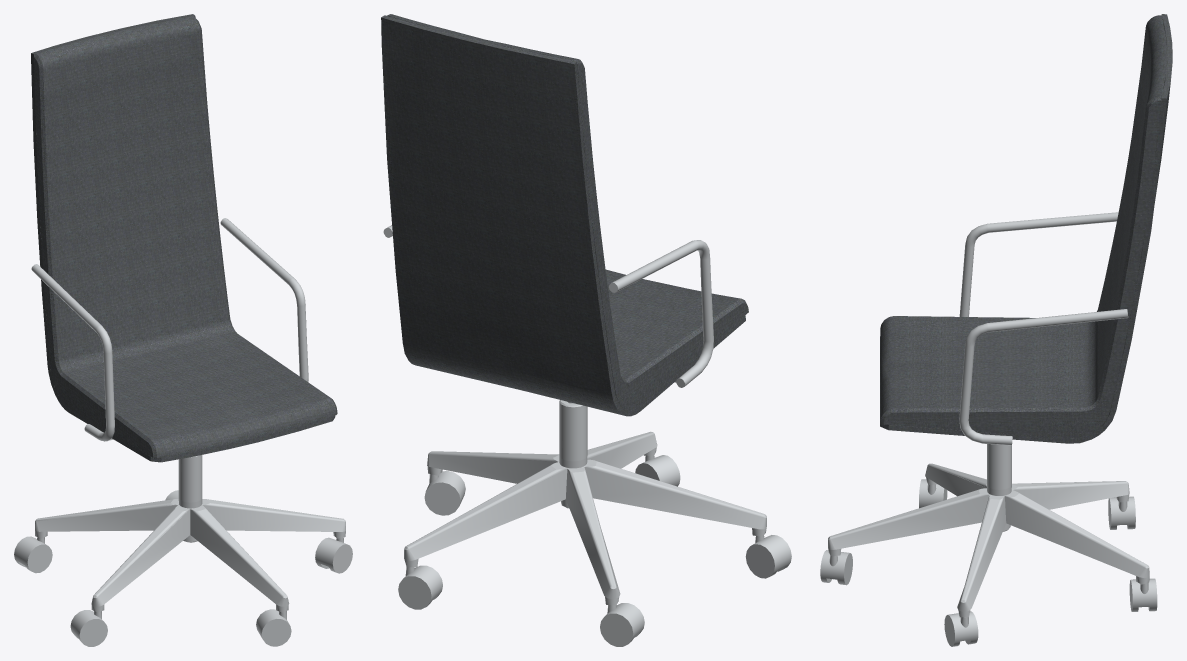
Rendered from krzeslo.dae.
3 views of the same model, side by side, from view 1: azimuth 30°, elevation 25°; view 2: azimuth 150°, elevation 25°; view 3: azimuth 270°, elevation 25° (orthographic). The views are drawn at different scales.
Parts seen in each view (by area): view 1: ID11 (×9); view 2: ID11 (×9); view 3: ID11 (×10).
Boxes of the visible parts, x1,y1,x2,y2 form: ID11 (×9): [14, 14, 352, 646]; ID11 (×9): [381, 14, 791, 646]; ID11 (×10): [820, 14, 1172, 646].
Bounding box in the file's own units: 702 × 703 × 1153.
Materials: 2 (1 with a texture image).
